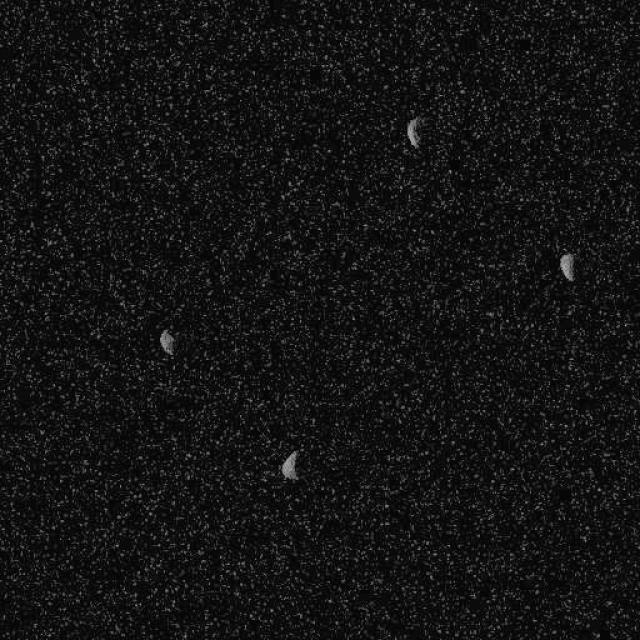D2: (279, 449, 300, 481), (405, 115, 423, 149), (557, 251, 575, 281), (159, 328, 175, 357)
